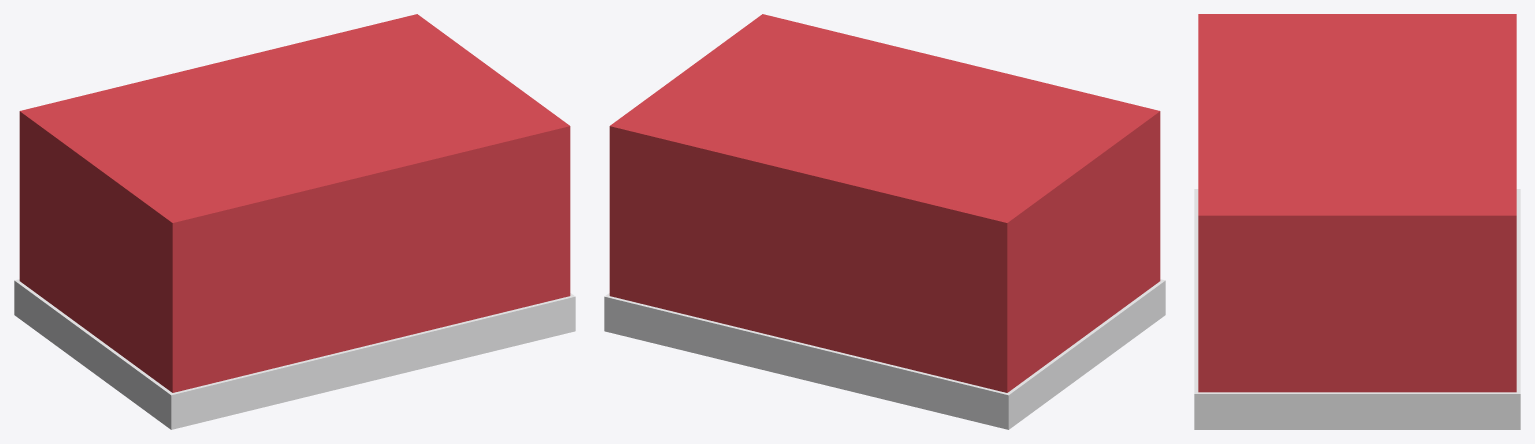
The model's file is noel_saia.glb.
3 renders of one model, left to right at view 1: azimuth 30°, elevation 25°; view 2: azimuth 150°, elevation 25°; view 3: azimuth 270°, elevation 25°, orthographic. The views are drawn at different scales.
Visible parts, largest first — view 1: noel_saia; view 2: noel_saia; view 3: noel_saia.
Part boxes in pixels (x1,y1,x2,y2): noel_saia: [14, 14, 575, 429]; noel_saia: [604, 14, 1165, 429]; noel_saia: [1194, 14, 1520, 429].
Size of the model in its own units: 0.61 by 0.295 by 0.41.
